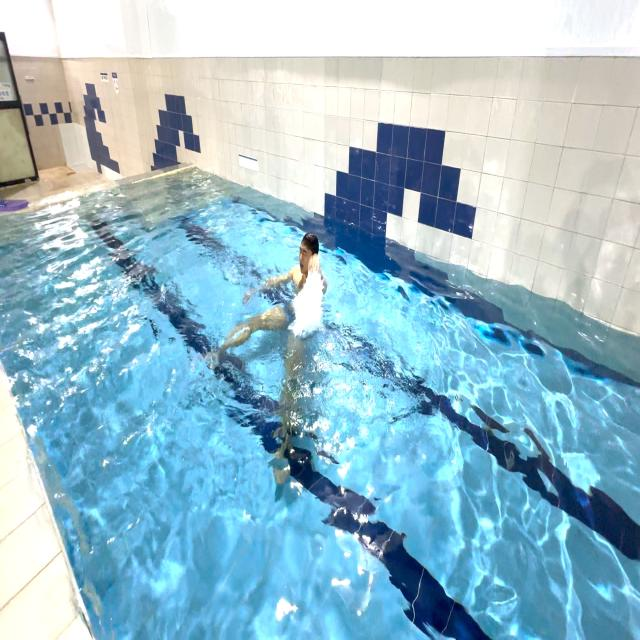Drowning: (226, 187, 365, 420)
